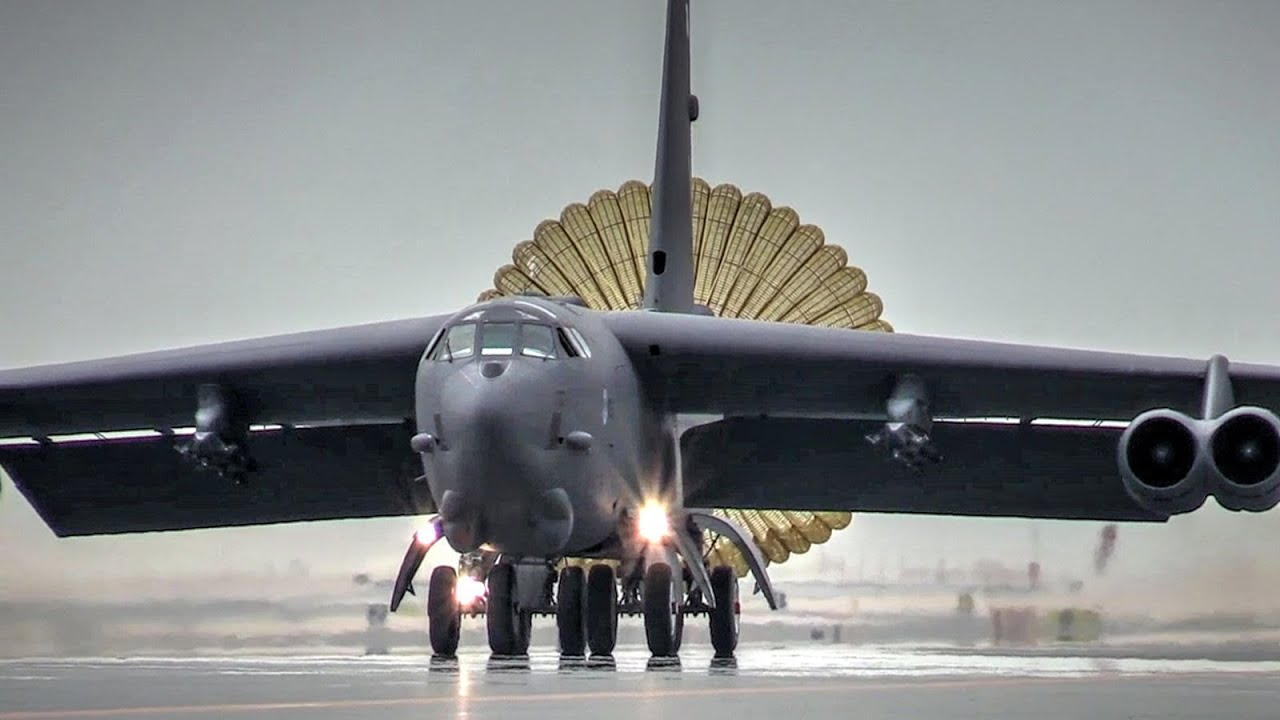B52: (1, 1, 1280, 656)
